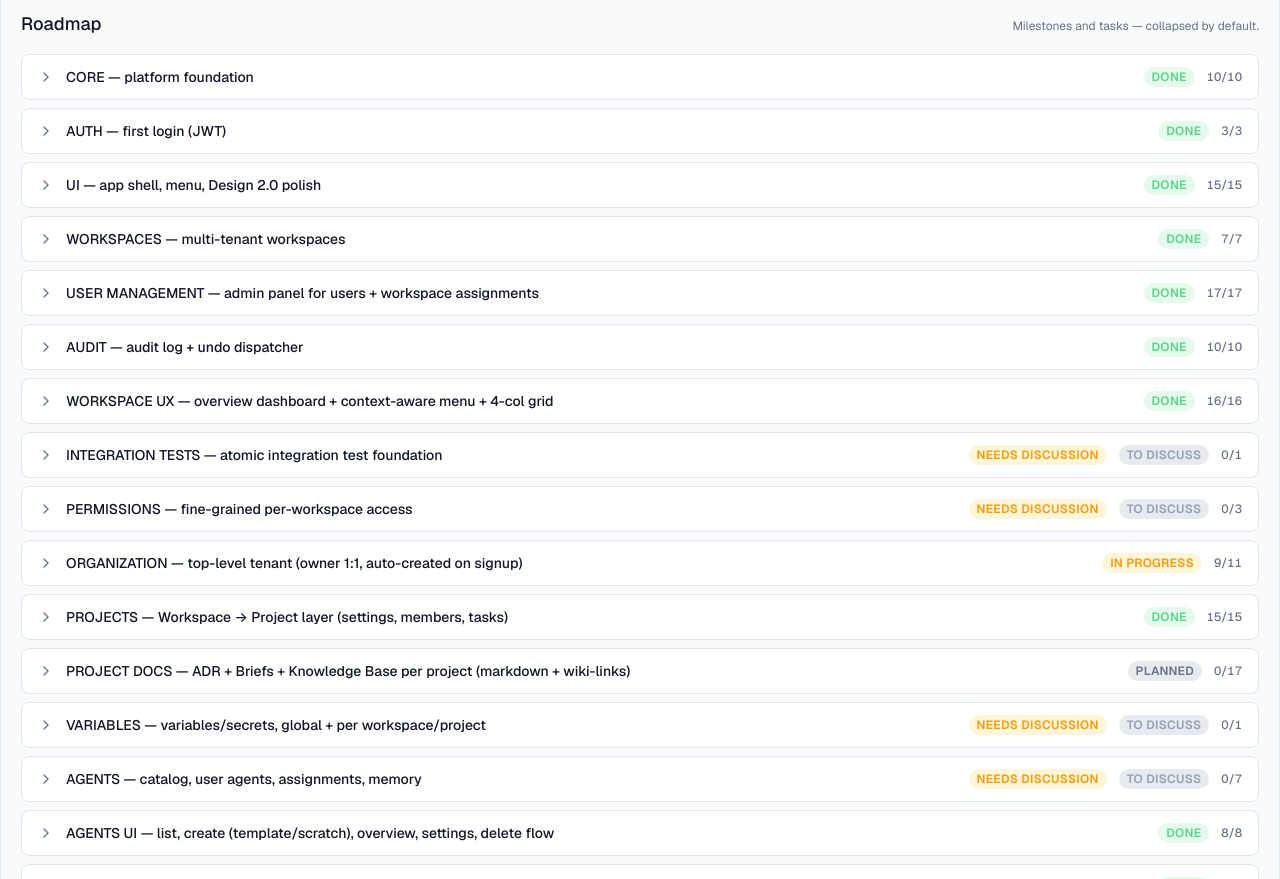
it: RoadmapPanel › should render a tbd task with a dashed checkbox (BL-AGENTS-006)
The width and height of the screenshot is (1280, 879).
Click the text "AGENTS — catalog, user agents, assignments, memory". click: click(244, 779)
box: [66,770,422,788]
(page scrolled)
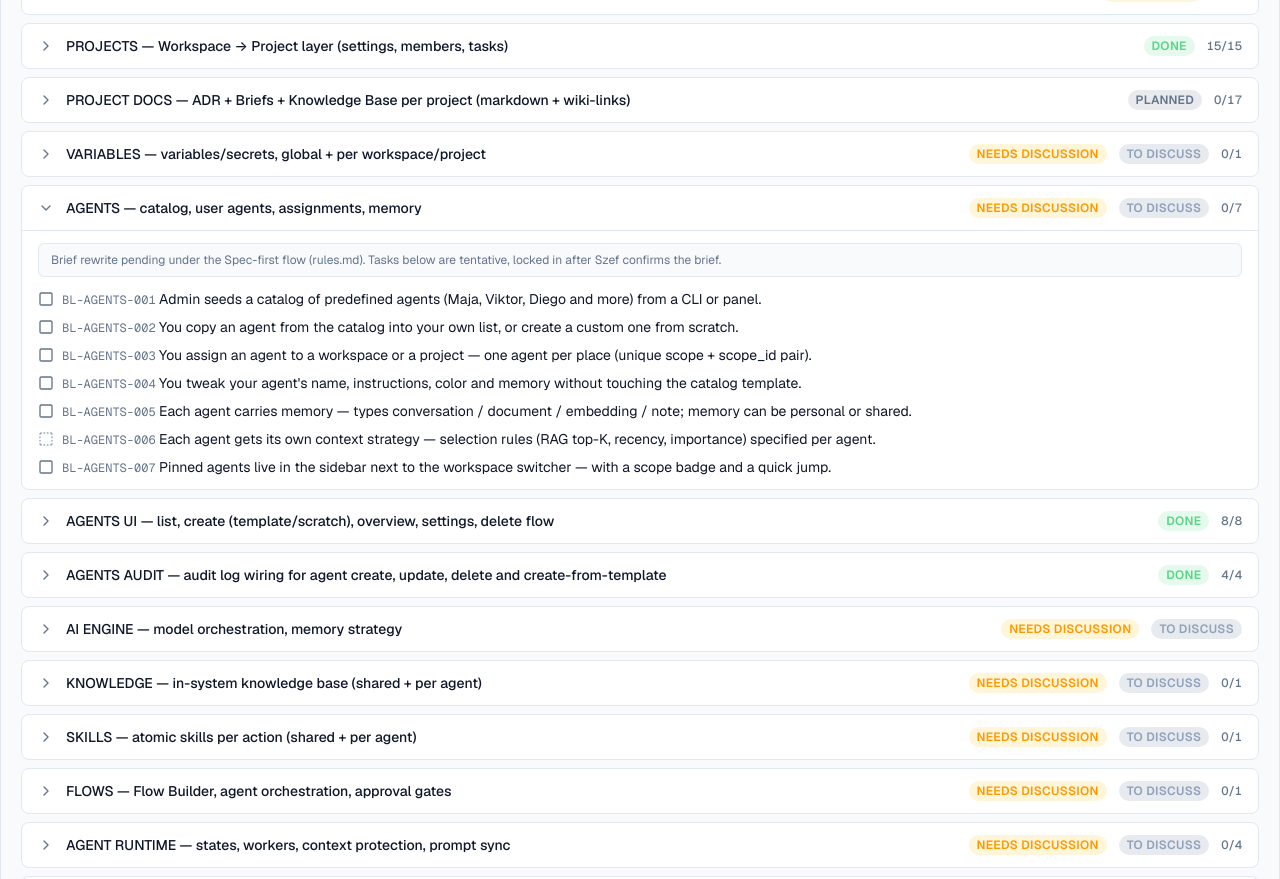
Check: the icon with test id "task-checkbox-tbd" is shown, box [38,431,54,447]
